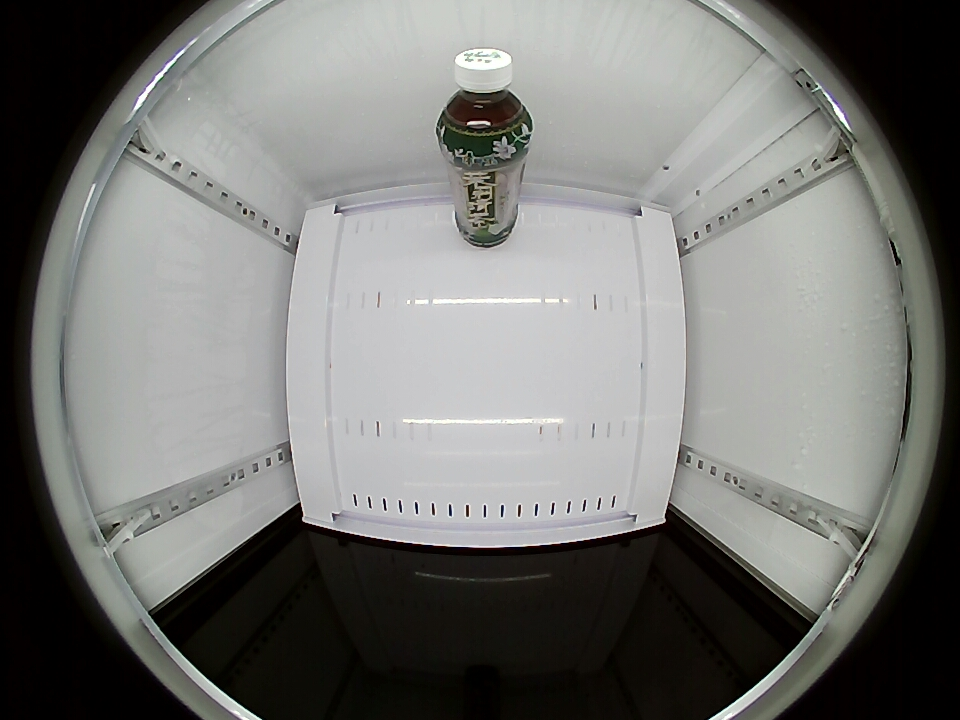moliqingcha: (436, 46, 532, 158)
